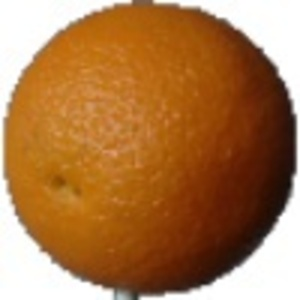laranja: (3, 3, 296, 294)
